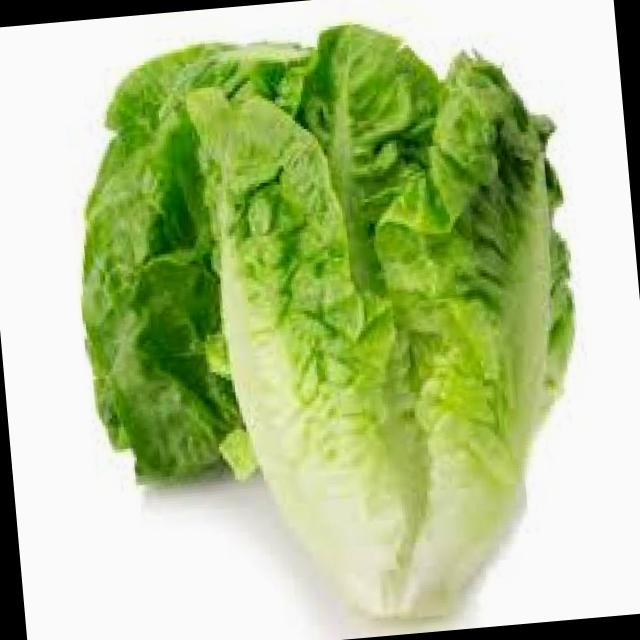Lettuce-Ready-to-Harvest: (84, 24, 572, 617)
